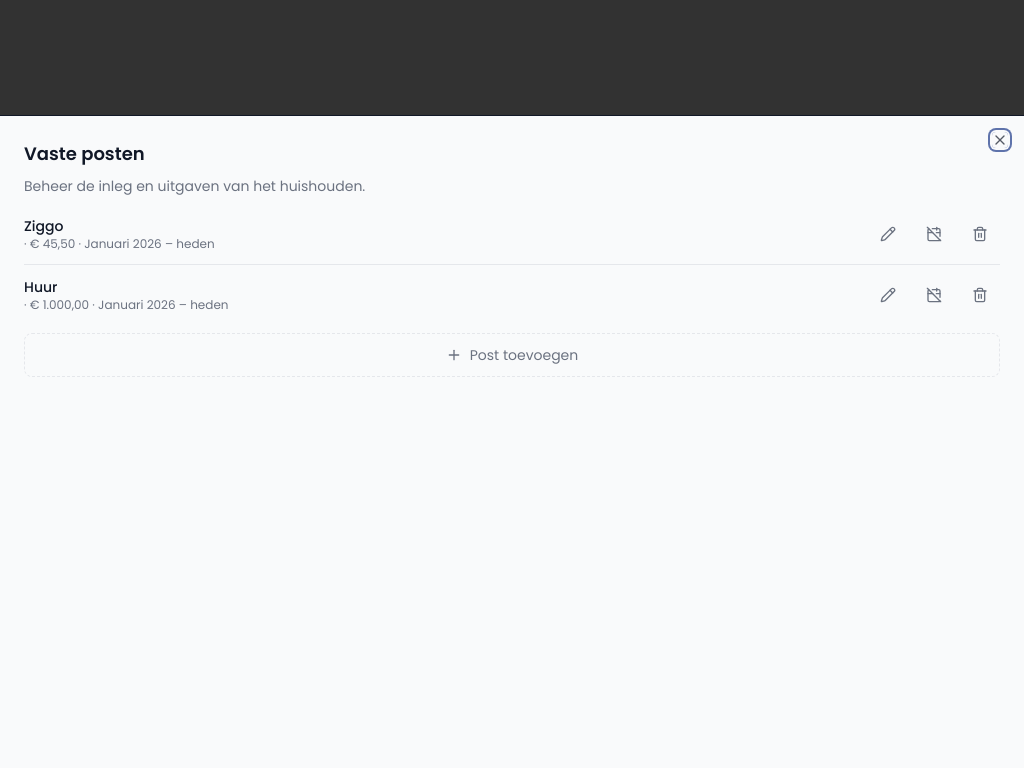
Test: BeheerSheet › editing a post › pre-fills whichever post was picked, not the one edited before
Click the button named "Ziggo bewerken" at [888, 234], box [868,214,908,254]
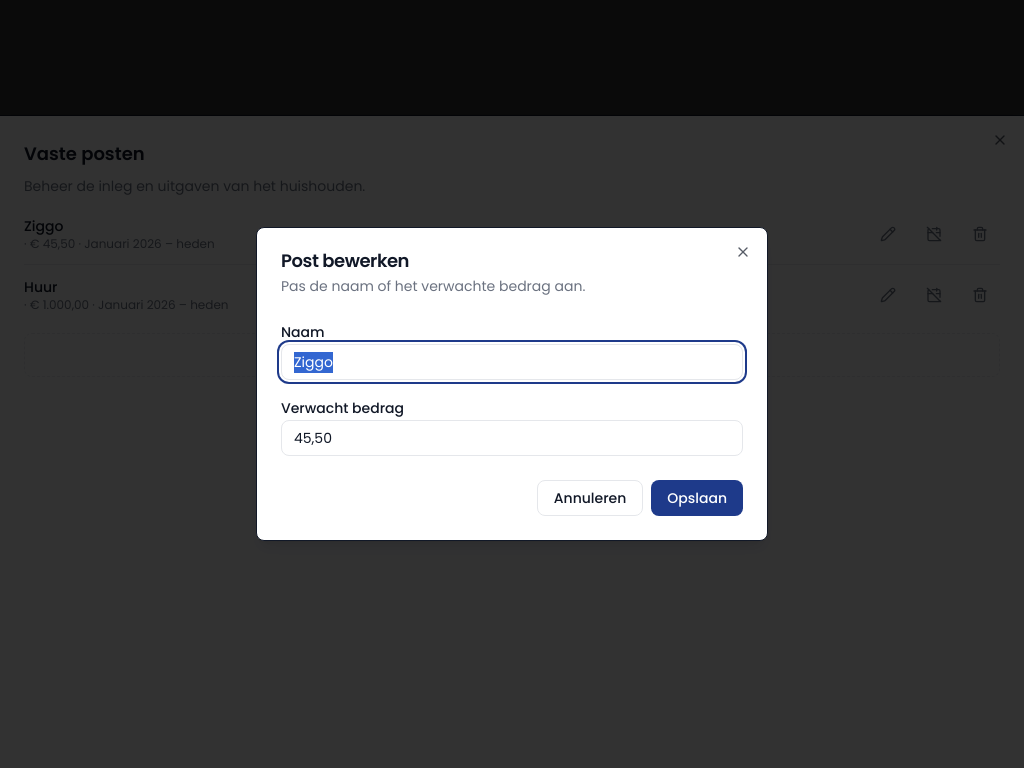
Click the button "Annuleren" at [590, 498], box [537,480,643,516]
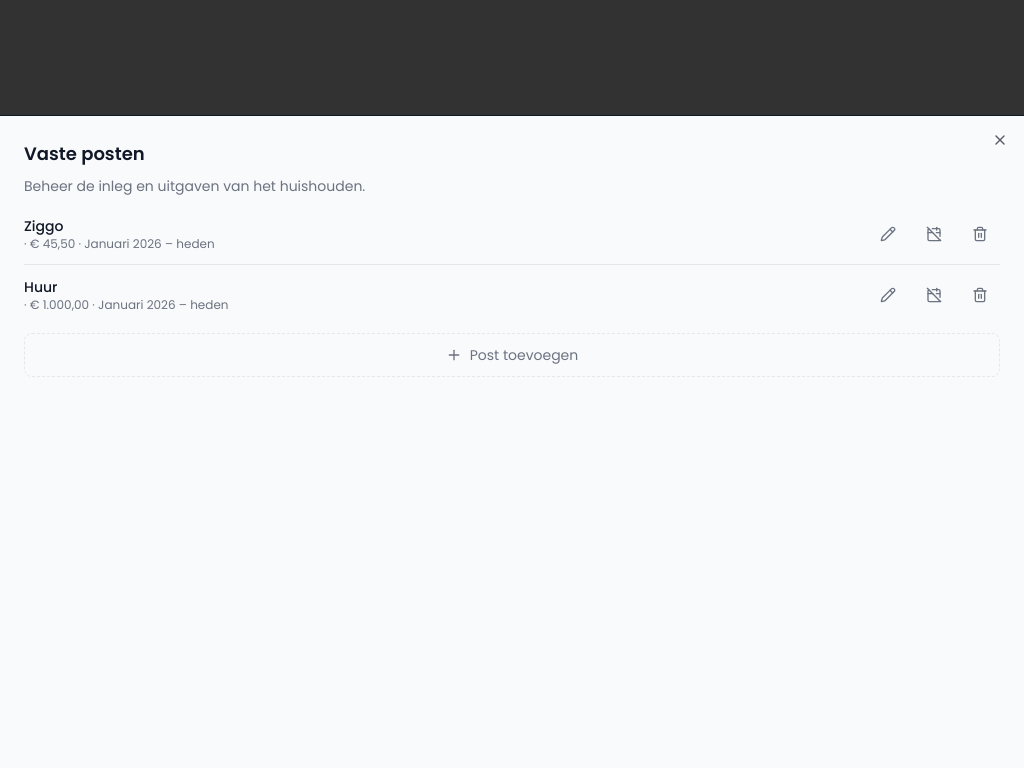
Click the button named "Huur bewerken" at [888, 295], box [868,275,908,315]
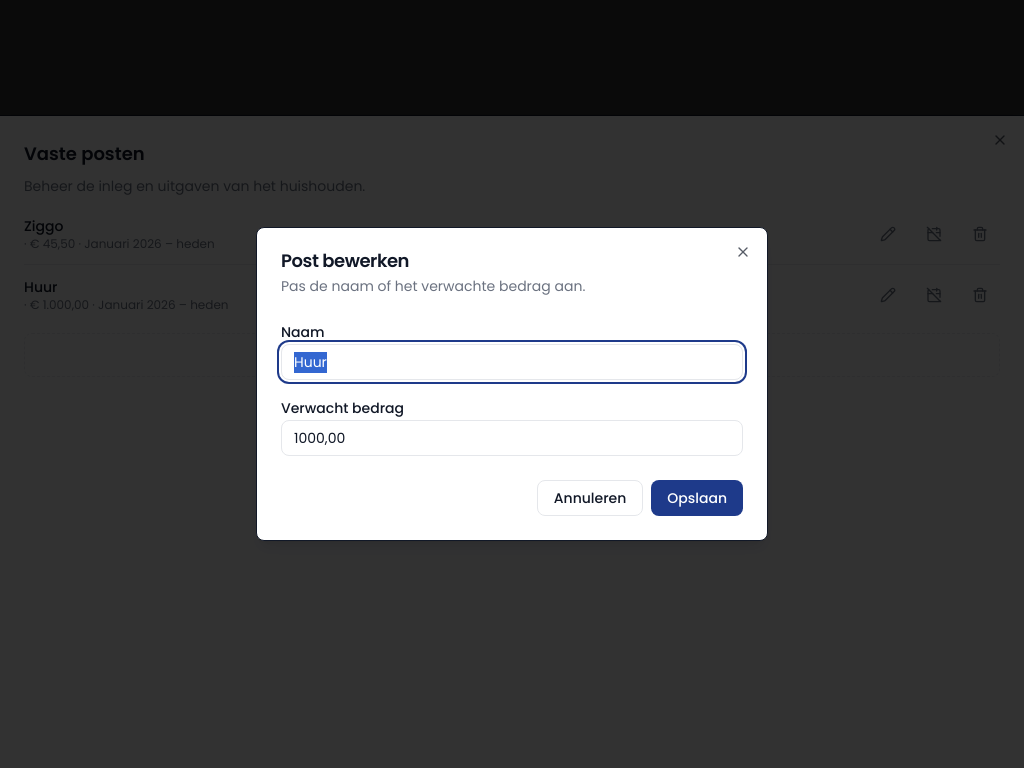
expect the field labelled "Naam" holds "Huur": met, box [281,344,743,380]
expect the field labelled "Verwacht bedrag" holds "1000,00": met, box [281,420,743,456]
